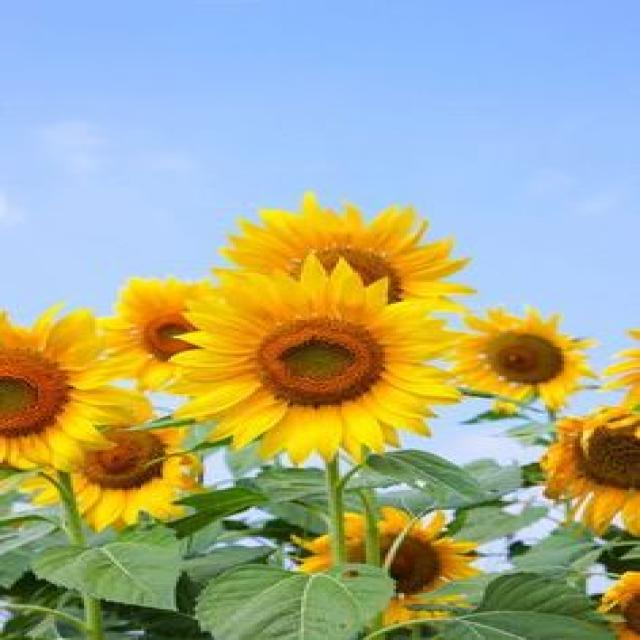sunflower: (137, 258, 468, 467), (271, 498, 477, 628), (0, 306, 152, 480), (507, 403, 640, 548), (443, 298, 598, 418)
